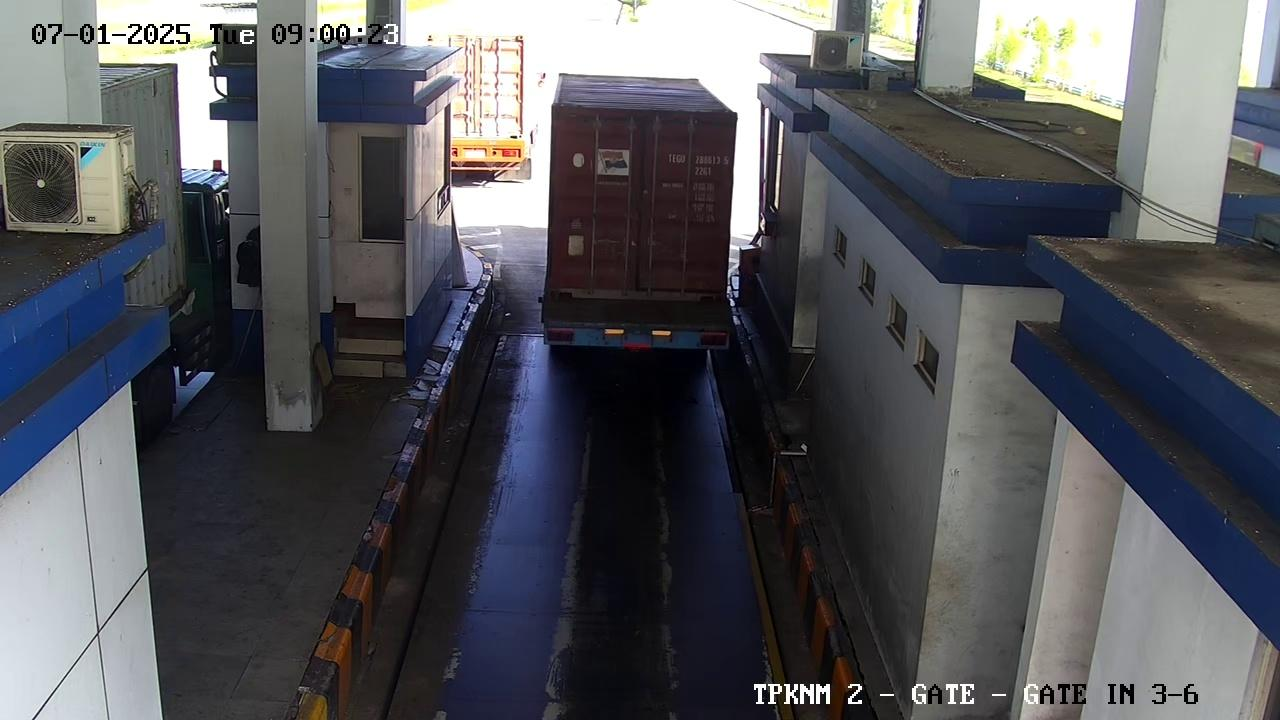Container_ID: (658, 143, 745, 185)
